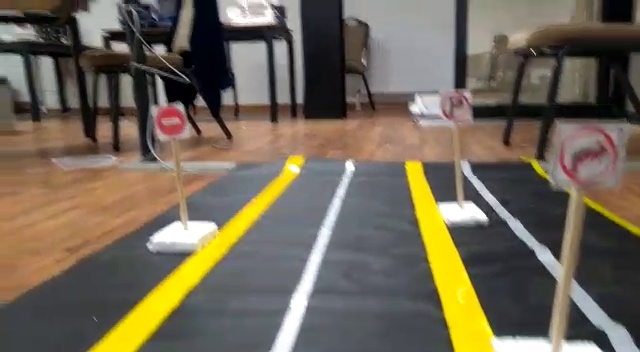girisi_olmayan_yol: (152, 100, 193, 137)
park_yapilmaz: (439, 91, 472, 121)
saga_donulmez: (558, 128, 618, 185)
